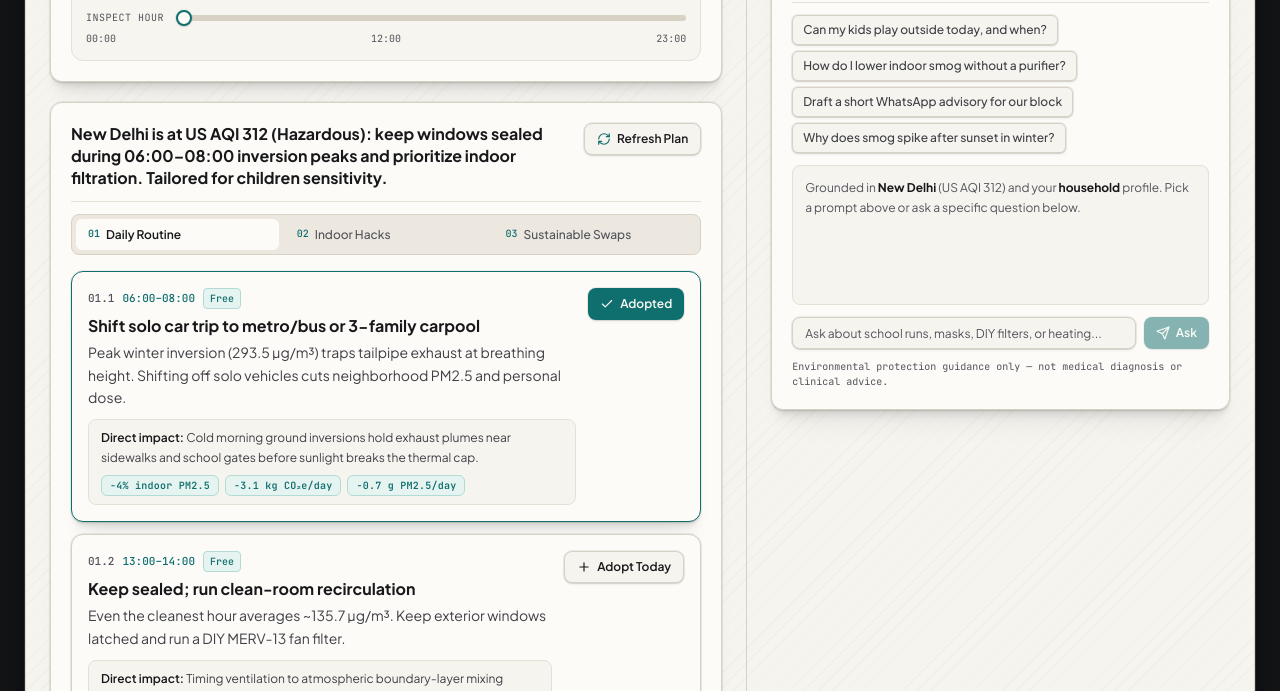
Test: ClearDayWorkspace UI flows › streams formatted SSE Smog Copilot reply (bold + bullets) and surfaces medical emergency banner
(page scrolled)
Type "I have chest pain in this smog" into the field named "Ask ClearDay Smog Copilot" at [964, 333], box [792,317,1136,349]
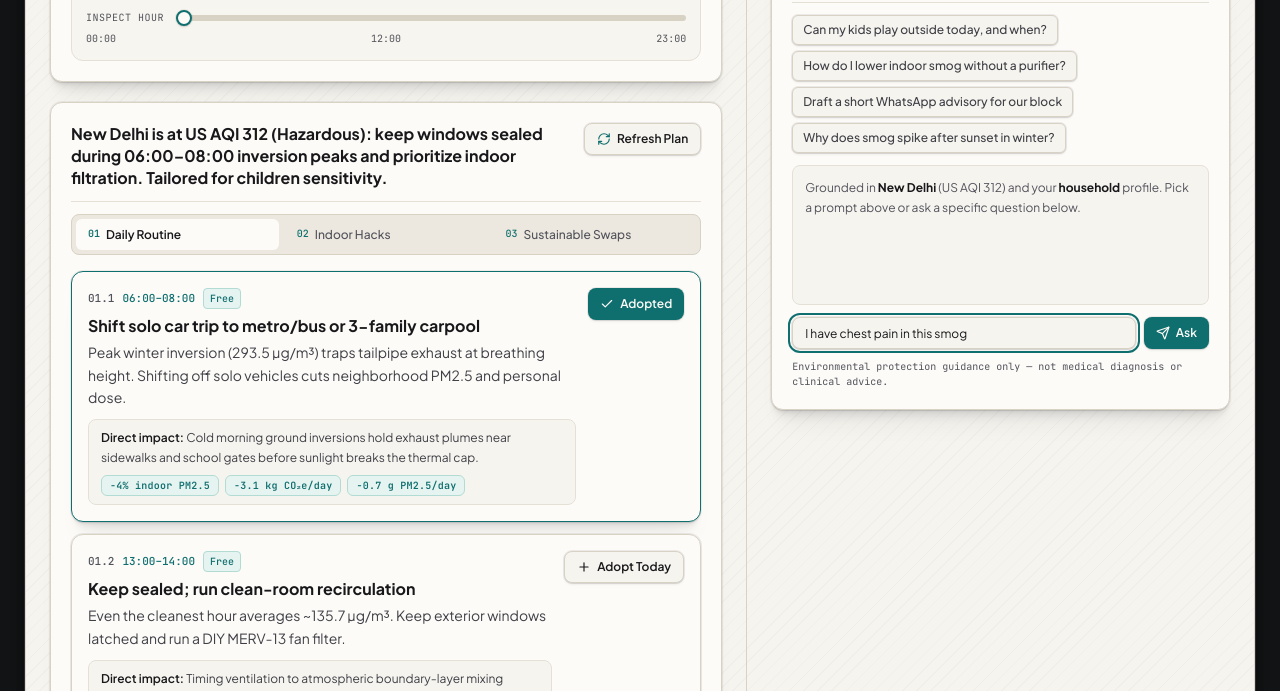
Click the button "Ask" at [1176, 333], box [1144,317,1209,349]
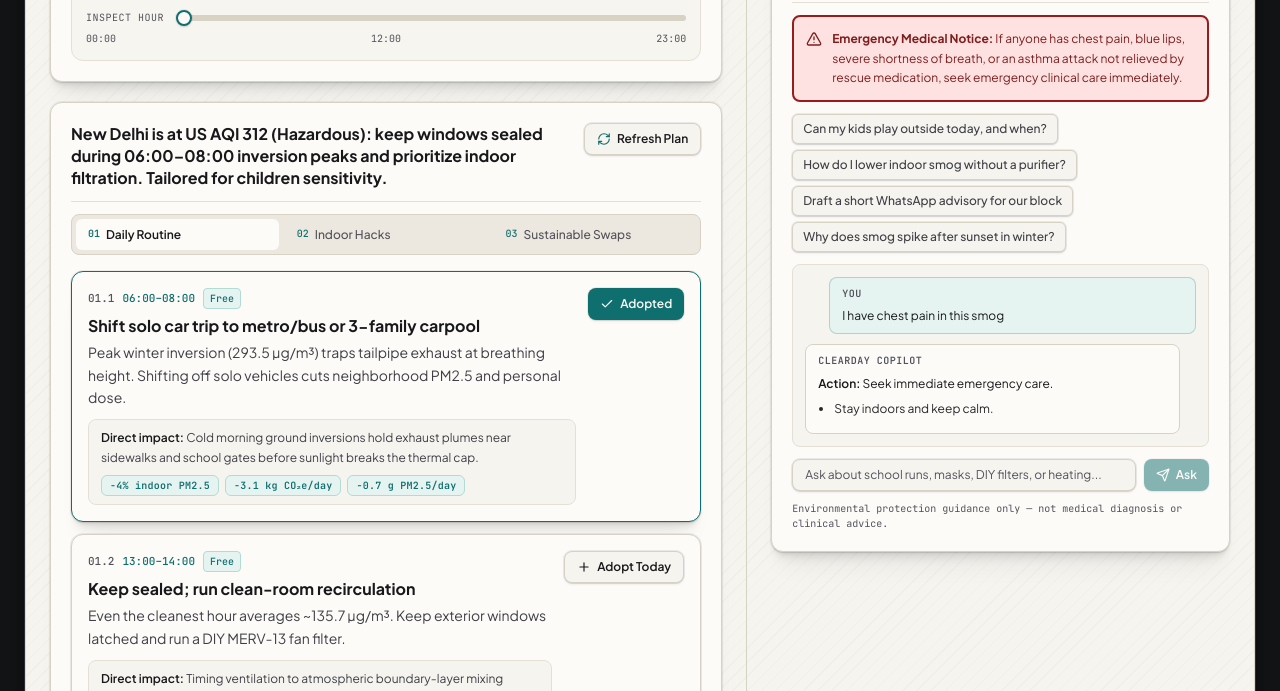
expect the text "Action: Seek immediate emergency care." is shown: met, box [818,376,1053,390]
expect the text "Action:" is shown: met, box [818,376,860,390]
expect the message shows "Emergency Medical Notice": met, box [832,31,993,46]
